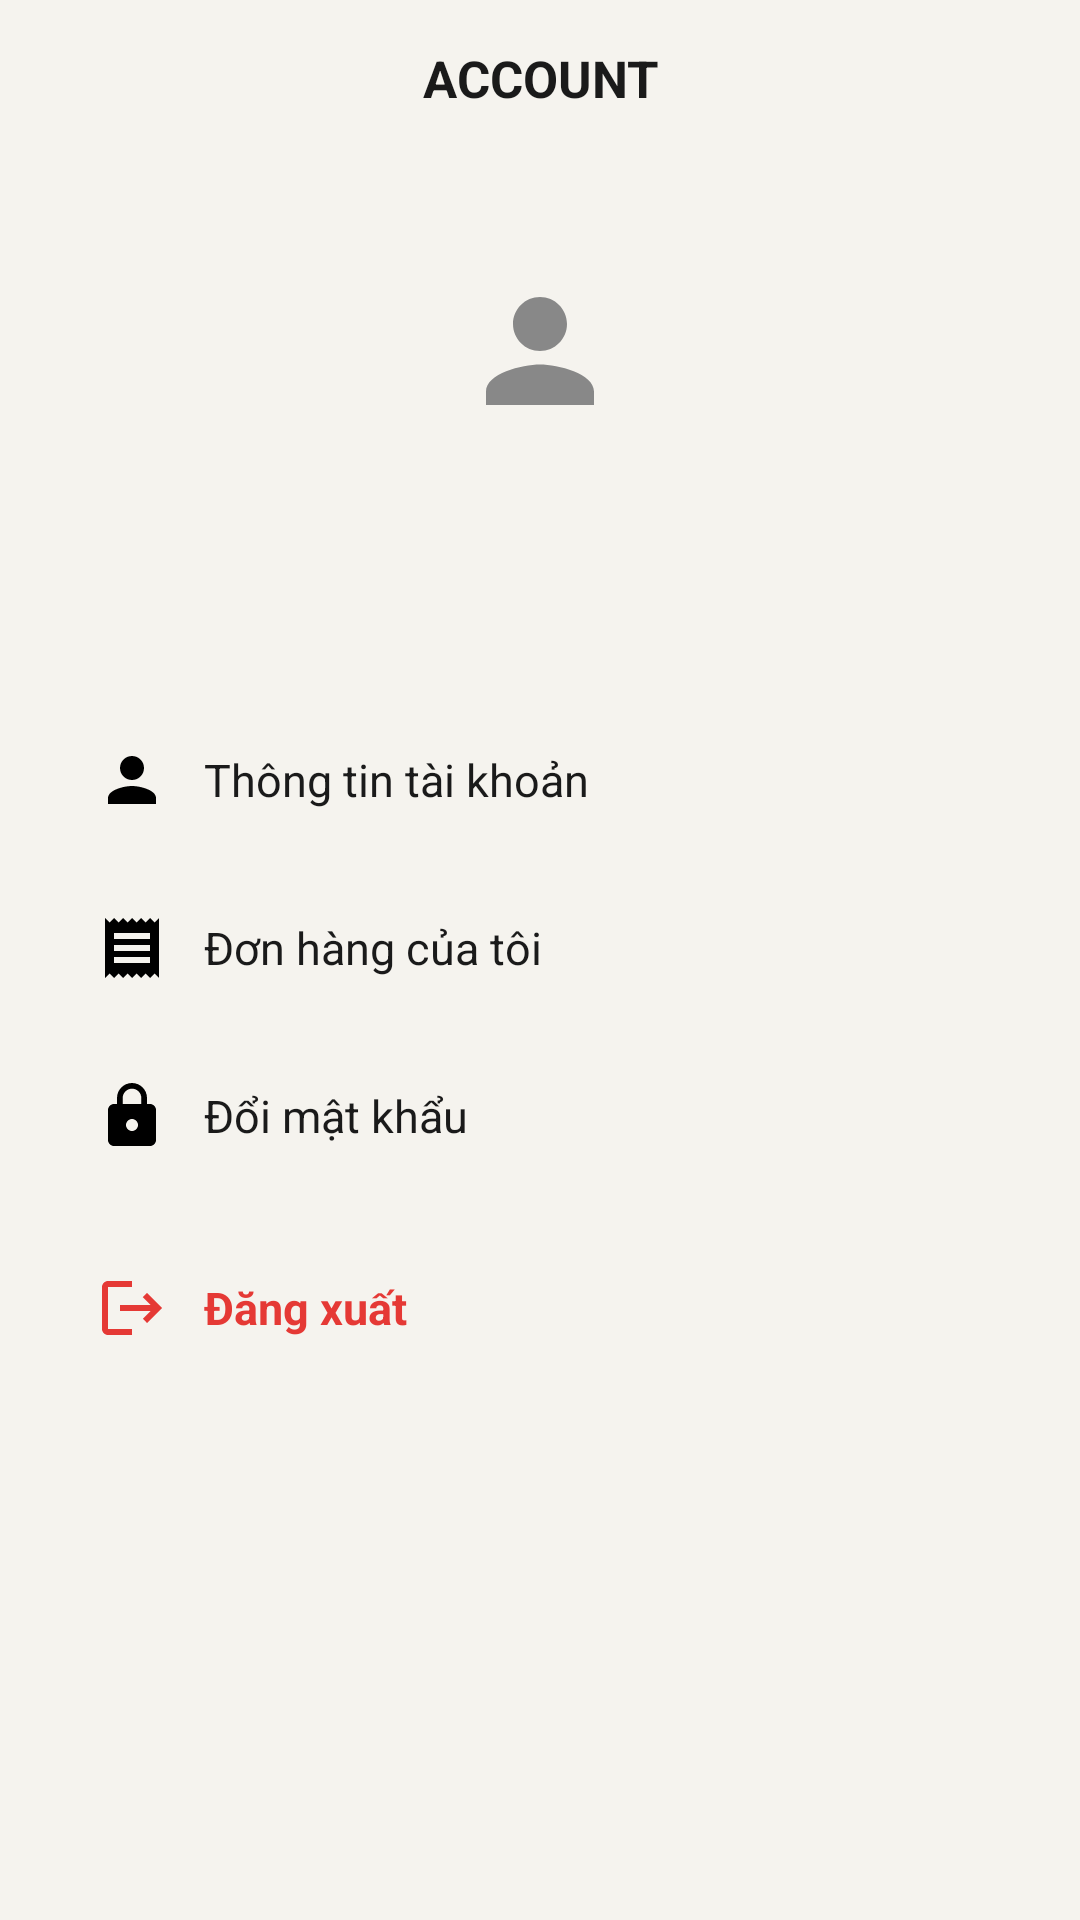

Named icons in this screenshot (1080 x 1920) and their centers, point (x, y):
Avatar: point (540, 351)
lock: point (132, 1114)
person: point (132, 780)
receipt: point (132, 948)
